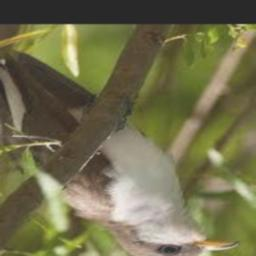Cuckoo: (0, 24, 241, 256)
